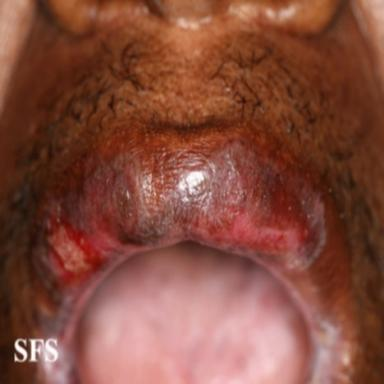lichen: (33, 138, 325, 292)
